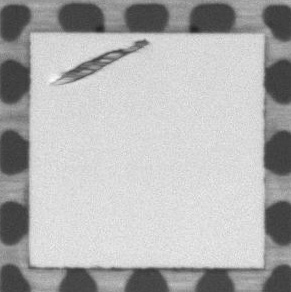DIE_INK: (48, 37, 151, 86)
